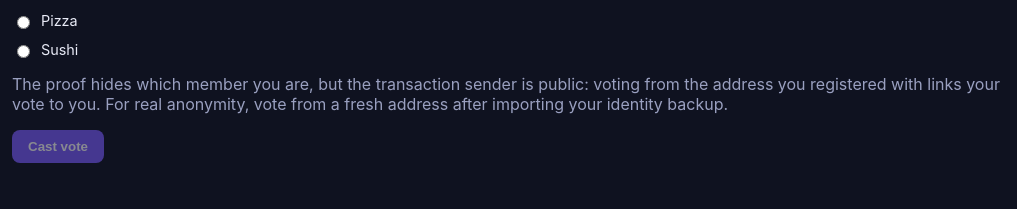
VotePanel › surfaces an error from the submit step
This screenshot has width=1017, height=209.
Click the radio button labelled "Pizza" at coordinates (24, 22), box [17,16,30,28]
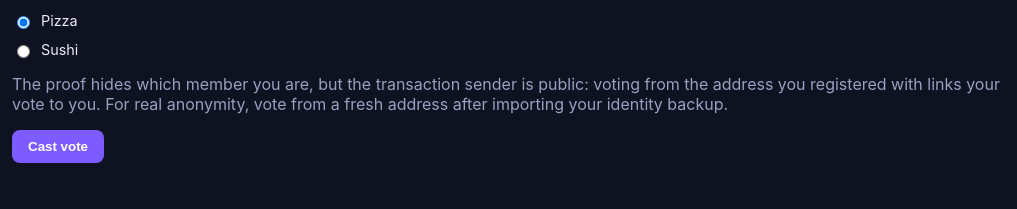
Click the button "Cast vote" at coordinates (58, 146), box [12,130,104,163]
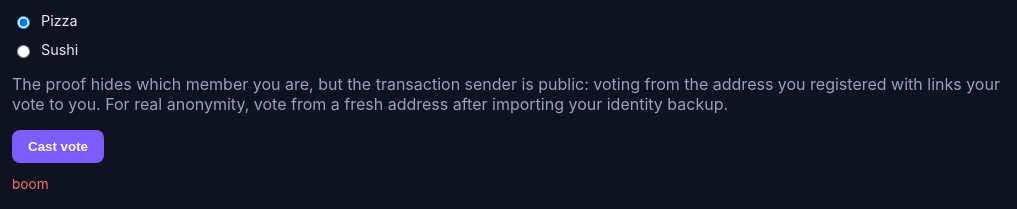
Check: the text "boom" is shown, box [12,176,48,192]
